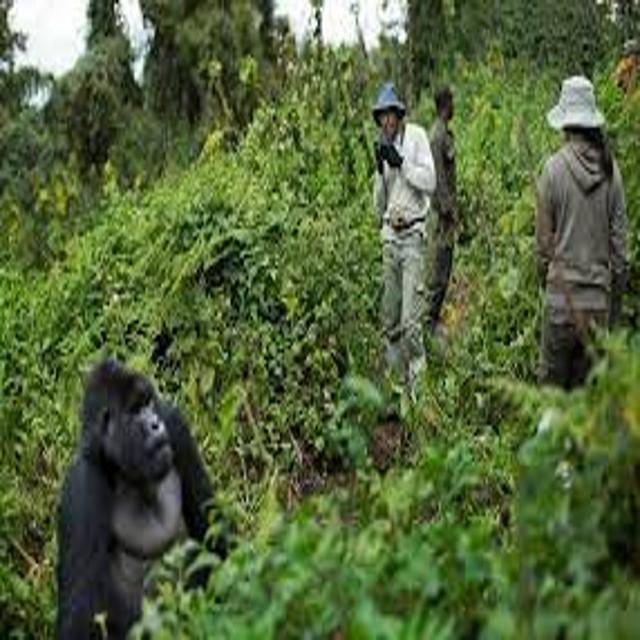Gorilla: (22, 370, 250, 632)
